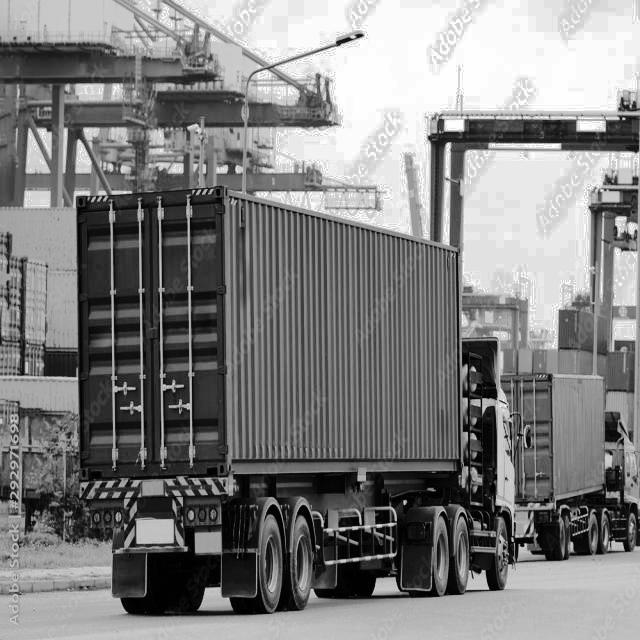HCV: (55, 151, 541, 633)
